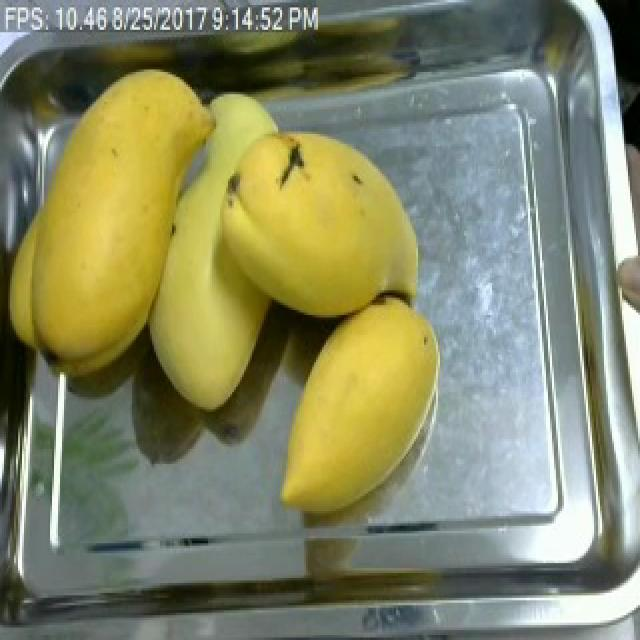fruit: (0, 52, 336, 399), (264, 281, 454, 534)
